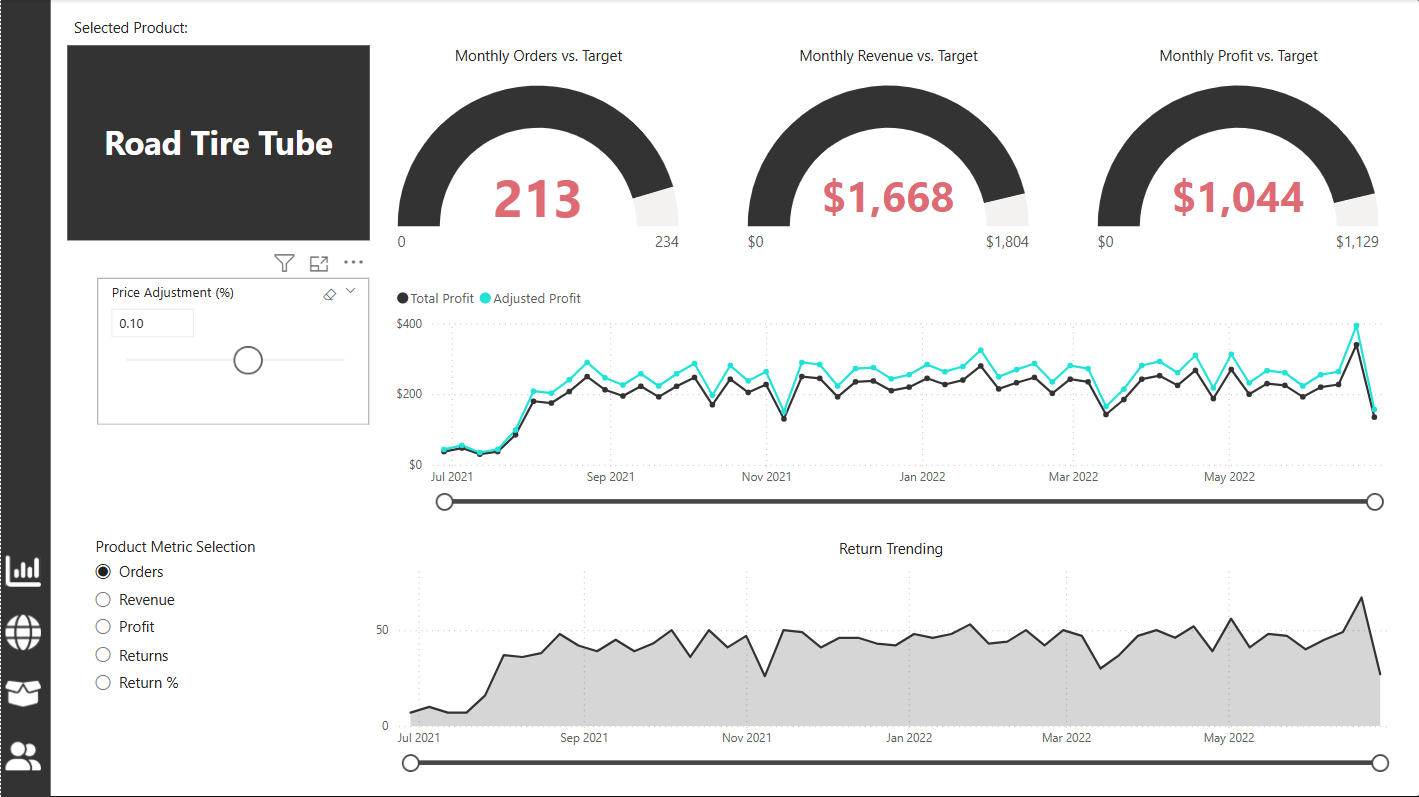

The dashboard page shown, as its layout file describes it:
{"tool":"powerbi","page":{"name":"Product Detail","canvas":[1280,720],"ordinal":2},"visuals":[{"type":"shape","box":[0,0,45,720],"z":0},{"type":"actionButton","box":[0.3,496.5,45.2,40.4],"z":1000,"group":"g1"},{"type":"gauge","title":"Monthly Orders vs. Target ","fields":{"Y":["Measure Table.Total Orders"],"MaxValue":["Measure Table.Order Target"]},"box":[352.5,41.2,263.8,210],"z":1000},{"type":"gauge","title":"Monthly Revenue vs. Target ","fields":{"Y":["Measure Table.Total Revenue"],"MaxValue":["Measure Table.Revenue Target"]},"box":[668.1,41.2,263.8,210],"z":2000},{"type":"actionButton","box":[0.3,607.4,45.2,40.4],"z":2000,"group":"g1"},{"type":"gauge","title":"Monthly Profit vs. Target ","fields":{"Y":["Measure Table.Total Profit"],"MaxValue":["Measure Table.Profit Target"]},"box":[983.8,41.2,263.8,210],"z":3000},{"type":"actionButton","box":[0.3,662.8,45.2,40.4],"z":3000,"group":"g1"},{"type":"actionButton","box":[0.3,551.9,45.2,40.4],"z":4000,"group":"g1"},{"type":"lineChart","title":"Profit Trending","fields":{"Category":["Calendar Lookup.Date Hierarchy2.Year","Calendar Lookup.Date Hierarchy2.Start of Month","Calendar Lookup.Date Hierarchy2.Start of Week","Calendar Lookup.Date Hierarchy2.Date"],"Y":["Measure Table.Total Profit","Measure Table.Adjusted Profit"]},"box":[352.2,250.7,915.9,214],"z":4000},{"type":"areaChart","title":"Return Trending","fields":{"Y":["Measure Table.Total Orders"],"Category":["Calendar Lookup.Date Hierarchy2.Year","Calendar Lookup.Date Hierarchy2.Start of Month","Calendar Lookup.Date Hierarchy2.Start of Week","Calendar Lookup.Date Hierarchy2.Date"]},"box":[332.6,485.5,940.4,214],"z":5000},{"type":"card","fields":{"Values":["Min(Product Lookup.ProductName)"]},"box":[59.9,41.6,272.7,176.1],"z":6000},{"type":"textbox","box":[60.6,11.5,124.1,30.3],"z":7000},{"type":"group","id":"g1","title":"Navigation button","box":[0.3,496.5,45.2,206.7],"z":8000},{"type":"slicer","fields":{"Values":["Price Adjustment (%).Price Adjustment (%)"]},"box":[86.8,251.9,245.8,132.1],"z":9000},{"type":"slicer","fields":{"Values":["Product Metric Selection.Product Metric Selection"]},"box":[72.1,479.4,225,183.4],"z":10000}]}

Visuals, with their boxes on the page's 1280x720 design canvas (x1, y1, x2, y2). These are canvas units, not pixel positions in the 1419x797 screenshot, which may show the page scaled, cropped or inside an application window:
shape: [0, 0, 45, 720]
actionButton: [0, 496, 46, 537]
"Monthly Orders vs. Target " gauge: [352, 41, 616, 251]
"Monthly Revenue vs. Target " gauge: [668, 41, 932, 251]
actionButton: [0, 607, 46, 648]
"Monthly Profit vs. Target " gauge: [984, 41, 1248, 251]
actionButton: [0, 663, 46, 703]
actionButton: [0, 552, 46, 592]
"Profit Trending" lineChart: [352, 251, 1268, 465]
"Return Trending" areaChart: [333, 486, 1273, 700]
card - Min(Product Lookup.ProductName): [60, 42, 333, 218]
textbox: [61, 12, 185, 42]
"Navigation button" group: [0, 496, 46, 703]
slicer - Price Adjustment (%).Price Adjustment (%): [87, 252, 333, 384]
slicer - Product Metric Selection.Product Metric Selection: [72, 479, 297, 663]
